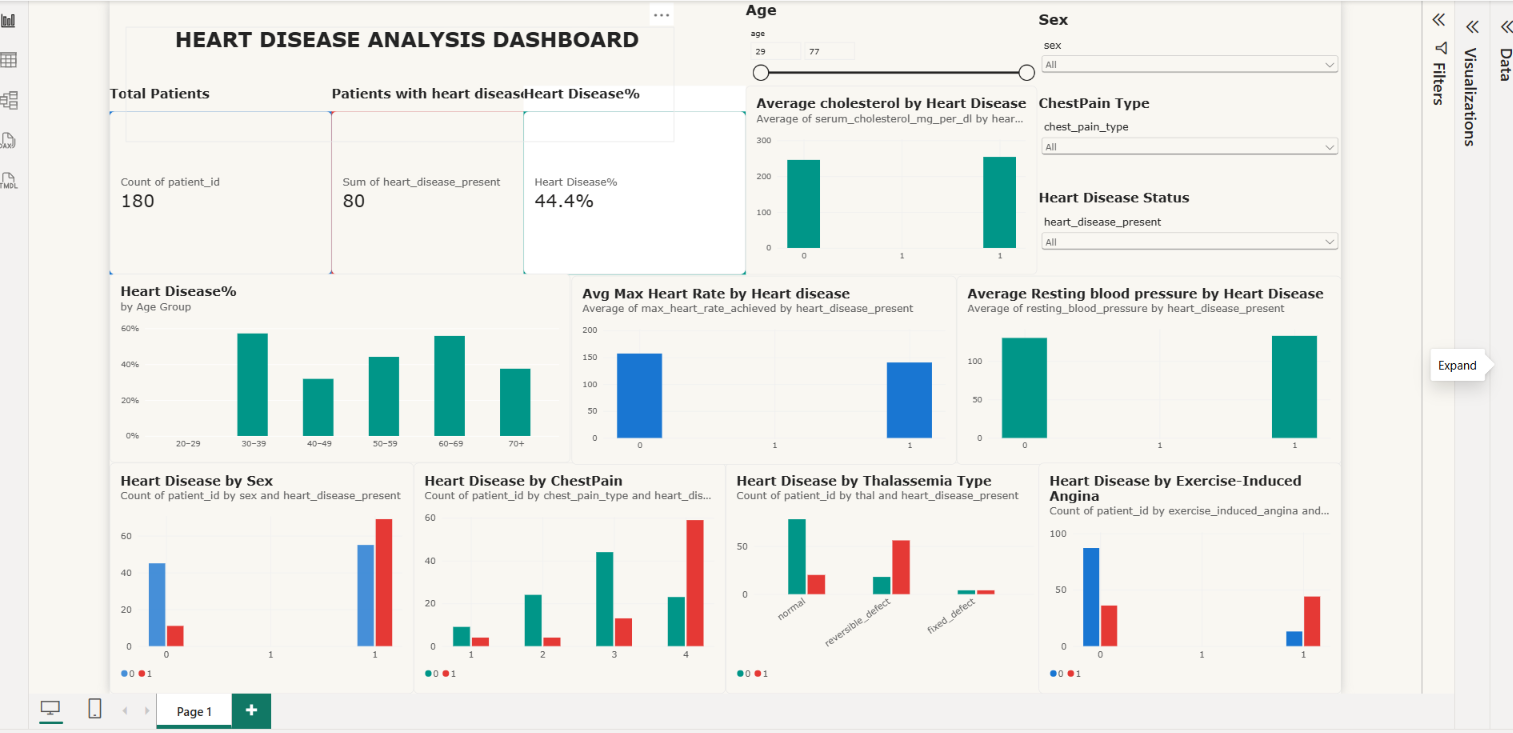

This screenshot's page, from the dashboard's own definition file:
{"tool":"powerbi","page":{"name":"Page 1","canvas":[1920,1080],"ordinal":0},"visuals":[{"type":"cardVisual","title":"Total Patients ","fields":{"Data":["CountNonNull(HeartDisease.patient_id)"]},"box":[0,132,346,294],"z":0},{"type":"cardVisual","title":"Patients with heart disease","fields":{"Data":["Sum(HeartDisease.heart_disease_present)"]},"box":[346,132,346,294],"z":1000},{"type":"cardVisual","title":"Heart Disease%","fields":{"Data":["HeartDisease.Heart Disease%"]},"box":[646,132,346,294],"z":2000},{"type":"lineStackedColumnComboChart","fields":{"Category":["HeartDisease.Age Group"],"Y":["HeartDisease.Heart Disease%"]},"box":[0,426,718,294],"z":3000},{"type":"clusteredColumnChart","title":"Heart Disease by Sex","fields":{"Category":["HeartDisease.sex"],"Series":["HeartDisease.heart_disease_present"],"Y":["CountNonNull(HeartDisease.patient_id)"]},"box":[0,720,474,360],"z":4000},{"type":"clusteredColumnChart","title":"Heart Disease by ChestPain","fields":{"Category":["HeartDisease.chest_pain_type"],"Series":["HeartDisease.heart_disease_present"],"Y":["CountNonNull(HeartDisease.patient_id)"]},"box":[474,720,486,360],"z":5000},{"type":"clusteredColumnChart","title":"Heart Disease by Thalassemia Type","fields":{"Category":["HeartDisease.thal"],"Series":["HeartDisease.heart_disease_present"],"Y":["CountNonNull(HeartDisease.patient_id)"]},"box":[960,720,498,360],"z":6000},{"type":"clusteredColumnChart","title":"Avg Max Heart Rate by Heart disease","fields":{"Category":["HeartDisease.heart_disease_present"],"Y":["Avg(HeartDisease.max_heart_rate_achieved)"]},"box":[720,428,600,294],"z":7000},{"type":"clusteredColumnChart","title":"Average cholesterol by  Heart Disease","fields":{"Category":["HeartDisease.heart_disease_present"],"Y":["Avg(HeartDisease.serum_cholesterol_mg_per_dl)"]},"box":[992,132,454,294],"z":8000},{"type":"clusteredColumnChart","title":"Average Resting blood pressure by Heart Disease","fields":{"Category":["HeartDisease.heart_disease_present"],"Y":["Avg(HeartDisease.resting_blood_pressure)"]},"box":[1320,428,600,294],"z":9000},{"type":"clusteredColumnChart","title":"Heart Disease by Exercise-Induced Angina","fields":{"Category":["HeartDisease.exercise_induced_angina"],"Series":["HeartDisease.heart_disease_present"],"Y":["CountNonNull(HeartDisease.patient_id)"]},"box":[1448,720,472,360],"z":10000},{"type":"slicer","title":"Age","fields":{"Values":["HeartDisease.age"]},"box":[992,0,454,148],"z":11000},{"type":"slicer","title":"Sex","fields":{"Values":["HeartDisease.sex"]},"box":[1448,16,472,146],"z":12000},{"type":"slicer","title":"ChestPain Type","fields":{"Values":["HeartDisease.chest_pain_type"]},"box":[1448,146,472,148],"z":13000},{"type":"slicer","title":"Heart Disease Status","fields":{"Values":["HeartDisease.heart_disease_present"]},"box":[1448,294,472,146],"z":14000},{"type":"textbox","box":[25,40,855,180],"z":15000}]}

Visuals, with their boxes in screenshot pixels (x1, y1, x2, y2):
"Total Patients " cardVisual: 146, 101, 369, 291
"Patients with heart disease" cardVisual: 369, 101, 592, 291
"Heart Disease%" cardVisual: 563, 101, 786, 291
lineStackedColumnComboChart - HeartDisease.Age Group x HeartDisease.Heart Disease%: 146, 291, 609, 480
"Heart Disease by Sex" clusteredColumnChart: 146, 480, 452, 713
"Heart Disease by ChestPain" clusteredColumnChart: 452, 480, 765, 713
"Heart Disease by Thalassemia Type" clusteredColumnChart: 765, 480, 1087, 713
"Avg Max Heart Rate by Heart disease" clusteredColumnChart: 611, 292, 998, 482
"Average cholesterol by  Heart Disease" clusteredColumnChart: 786, 101, 1079, 291
"Average Resting blood pressure by Heart Disease" clusteredColumnChart: 998, 292, 1385, 482
"Heart Disease by Exercise-Induced Angina" clusteredColumnChart: 1080, 480, 1385, 713
"Age" slicer: 786, 16, 1079, 111
"Sex" slicer: 1080, 26, 1385, 120
"ChestPain Type" slicer: 1080, 110, 1385, 206
"Heart Disease Status" slicer: 1080, 206, 1385, 300
textbox: 162, 42, 714, 158
